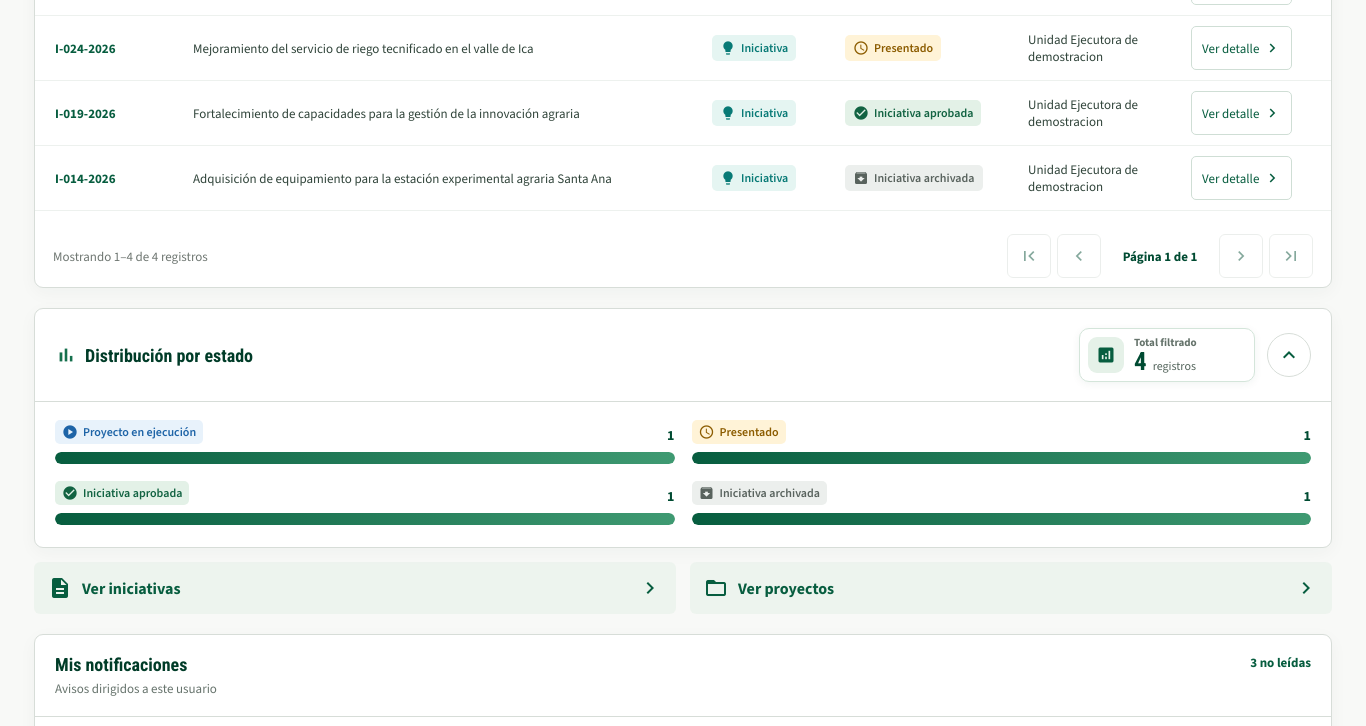
Test: DashboardComponent › permite contraer la distribución conservando título y total
(page scrolled)
Expected: the list with class "status-chart" is shown, x1=35 y1=402 x2=1331 y2=547
Click the button with class "distribution-toggle" at (1289,355), box x1=1267 y1=333 x2=1311 y2=377
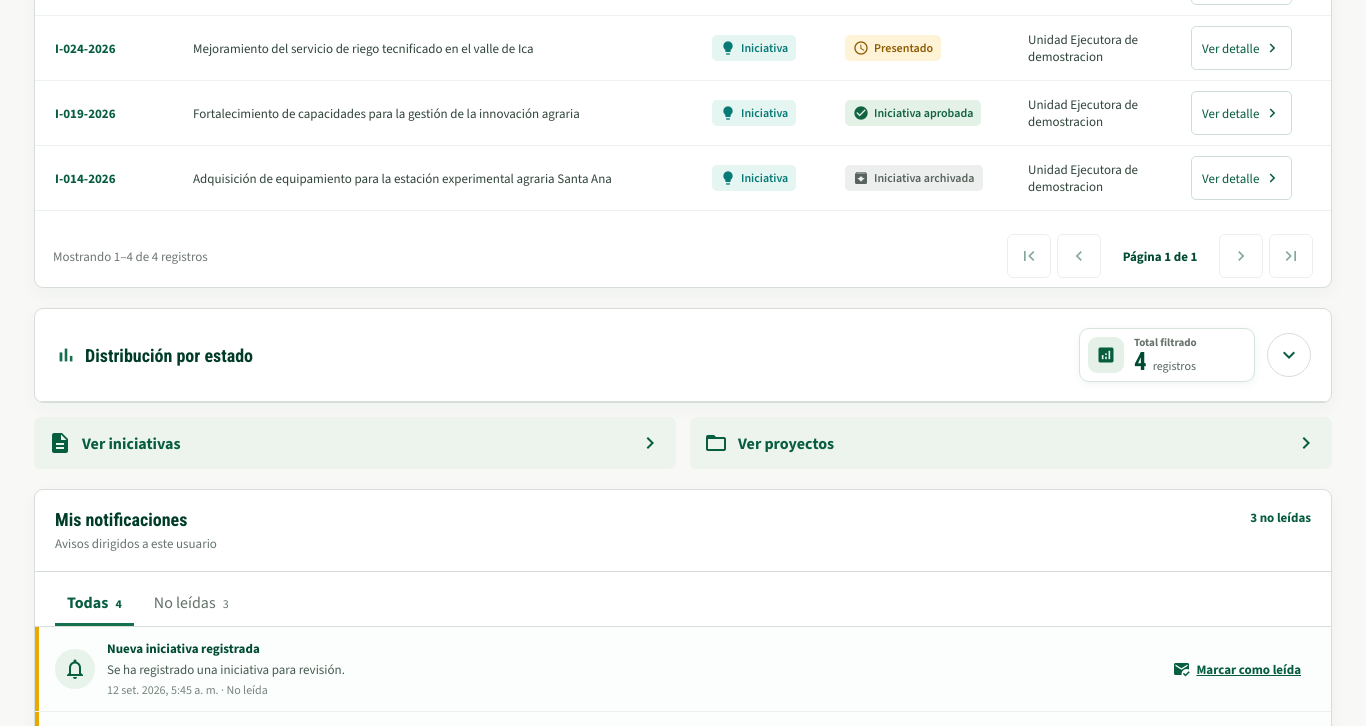
Expected: the element with class "distribution-title" shows "Distribución por estado", x1=85 y1=345 x2=253 y2=366
Expected: the button with class "distribution-toggle" is collapsed, x1=1267 y1=333 x2=1311 y2=377
